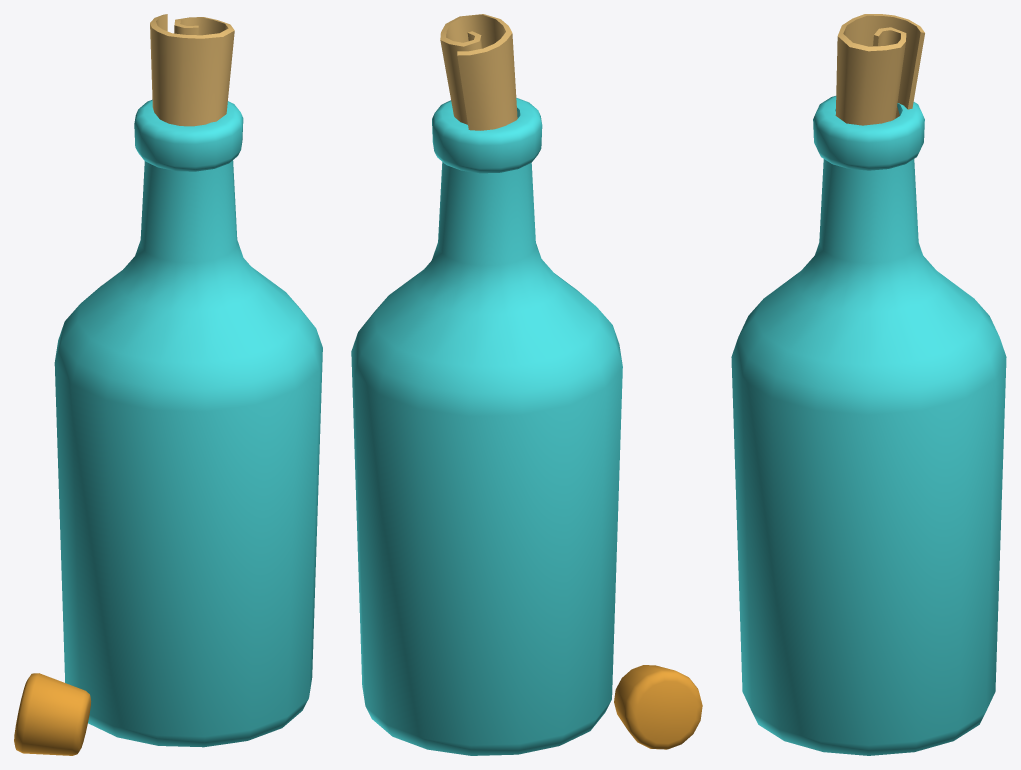
The model's file is butilkaMult.fbx.
3 renders of one model, left to right at view 1: azimuth 30°, elevation 25°; view 2: azimuth 150°, elevation 25°; view 3: azimuth 270°, elevation 25°, orthographic.
Parts seen in each view (by area): view 1: butilka.002; view 2: butilka.002; view 3: butilka.002.
Part boxes in pixels (x1,y1,x2,y2): butilka.002: [14, 14, 322, 755]; butilka.002: [351, 14, 702, 755]; butilka.002: [731, 14, 1006, 755].
Size of the model in its own units: 59.56 by 124 by 45.14.
